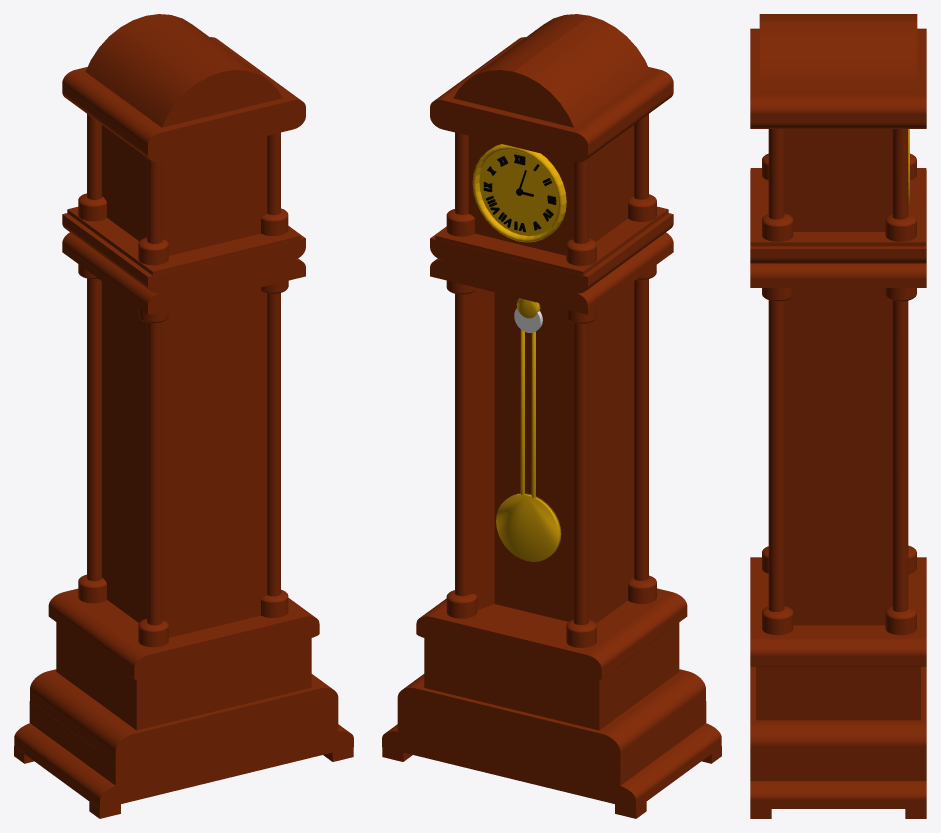
3 views of the same model, side by side, from view 1: azimuth 30°, elevation 25°; view 2: azimuth 150°, elevation 25°; view 3: azimuth 270°, elevation 25° (orthographic). The views are drawn at different scales.
Parts seen in each view (by area): view 1: Cube.009; view 2: Cube.009, Cylinder.001, Cylinder.004, Cylinder; view 3: Cube.009.
Boxes of the visible parts, x1,y1,x2,y2 form: Cube.009: (14, 14, 353, 818); Cube.009: (382, 14, 721, 818); Cylinder.001: (472, 144, 566, 242); Cylinder.004: (496, 298, 561, 561); Cylinder: (483, 154, 556, 232); Cube.009: (750, 14, 926, 818).
Bounding box in the file's own units: 96.38 × 258 × 56.32.
